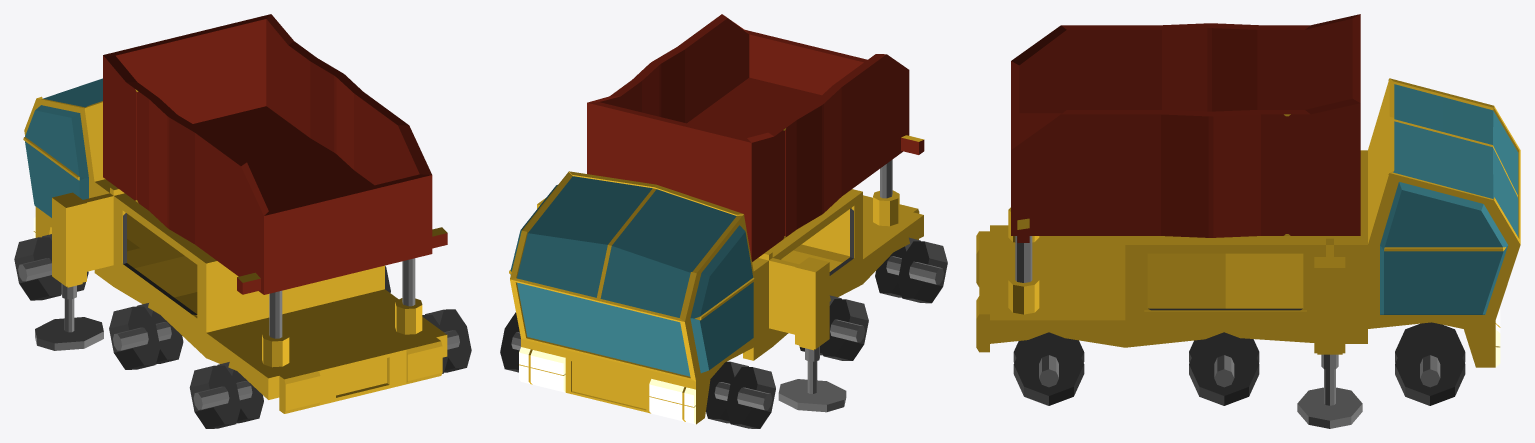
The model's file is Toy Truck.fbx.
The picture shows the model from 3 angles, left to right: view 1: azimuth 30°, elevation 25°; view 2: azimuth 150°, elevation 25°; view 3: azimuth 270°, elevation 25°; orthographic projection. The views are drawn at different scales.
Parts seen in each view (by area): view 1: Node 0; view 2: Node 0; view 3: Node 0.
Boxes of the visible parts, box(x1,y1,x2,y2) form: Node 0: box(14, 14, 471, 428); Node 0: box(500, 14, 947, 428); Node 0: box(976, 14, 1520, 428).
Size of the model in its own units: 0.5038 by 0.2892 by 0.382.
